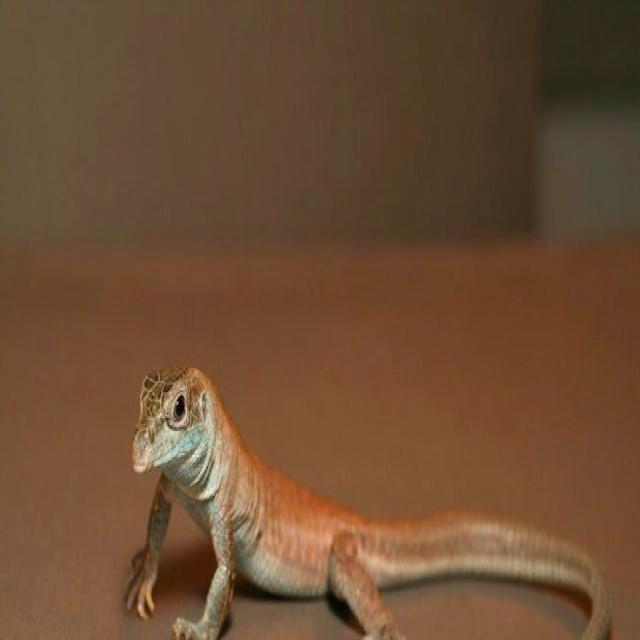lizard: (126, 368, 612, 638)
